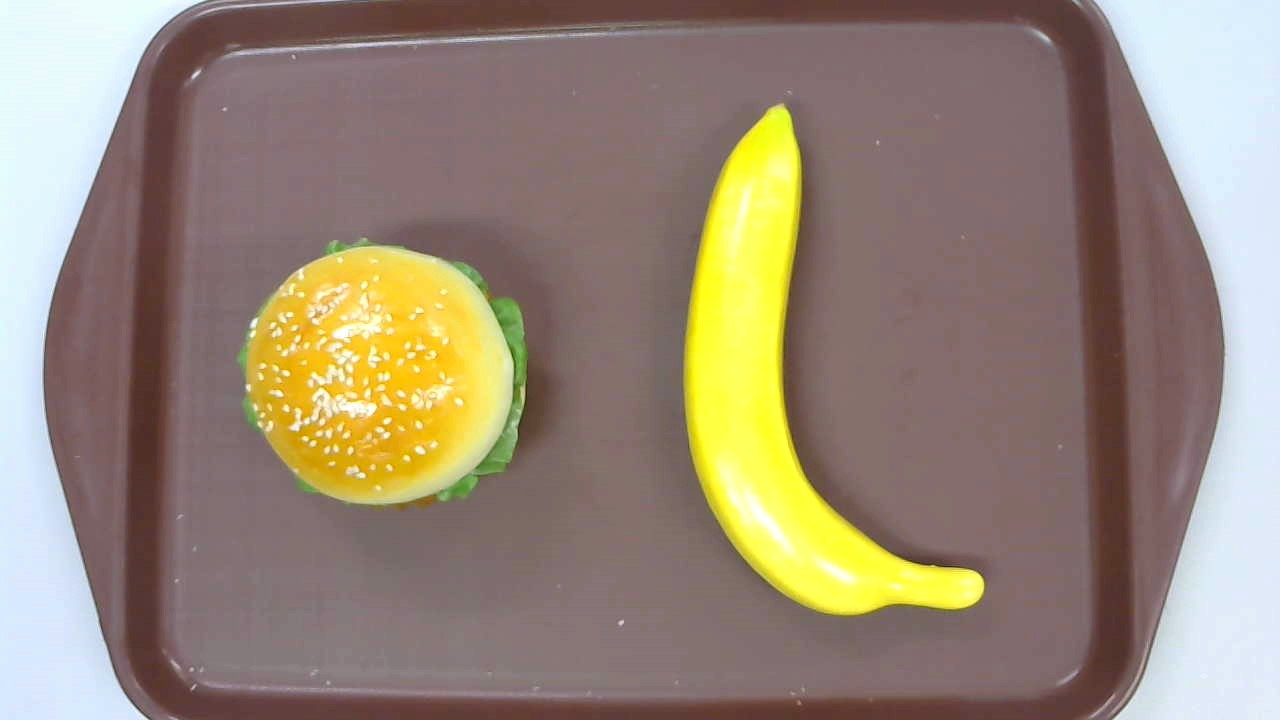banana: (682, 103, 984, 616)
hamburger: (235, 237, 529, 513)
